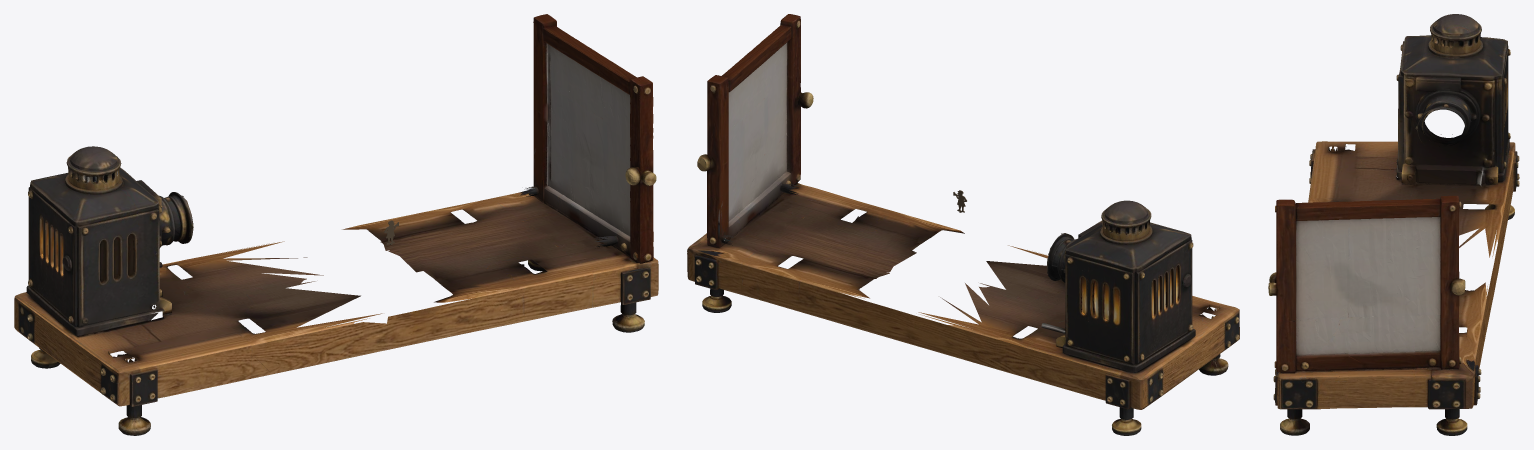
File: shadow.glb
3 renders of one model, left to right at view 1: azimuth 30°, elevation 25°; view 2: azimuth 150°, elevation 25°; view 3: azimuth 270°, elevation 25°, orthographic. The views are drawn at different scales.
Visible parts, largest first — view 1: Hi3D source frame; view 2: Hi3D source frame; view 3: Hi3D source frame.
Boxes of the visible parts, x1,y1,x2,y2 form: Hi3D source frame: (14,14,658,435); Hi3D source frame: (687,14,1239,435); Hi3D source frame: (1268,14,1519,435).
Bounding box in the file's own units: 1.46 × 0.6596 × 0.6473.
2 materials, 1 textured.
